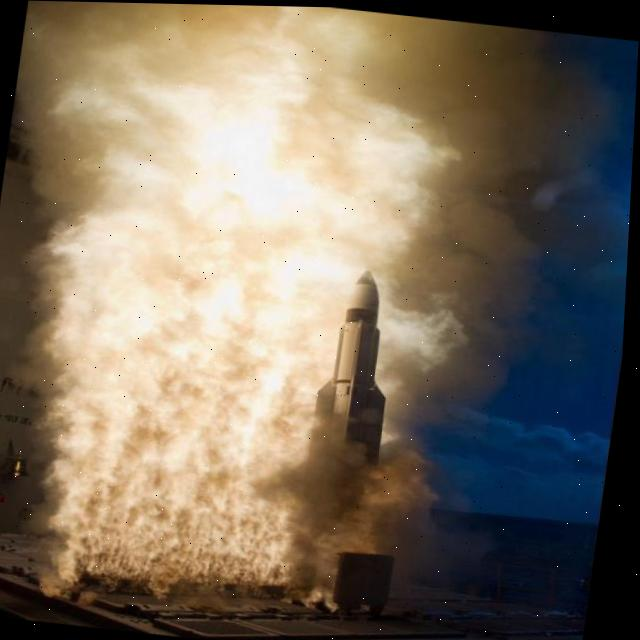missile: (247, 260, 421, 601)
